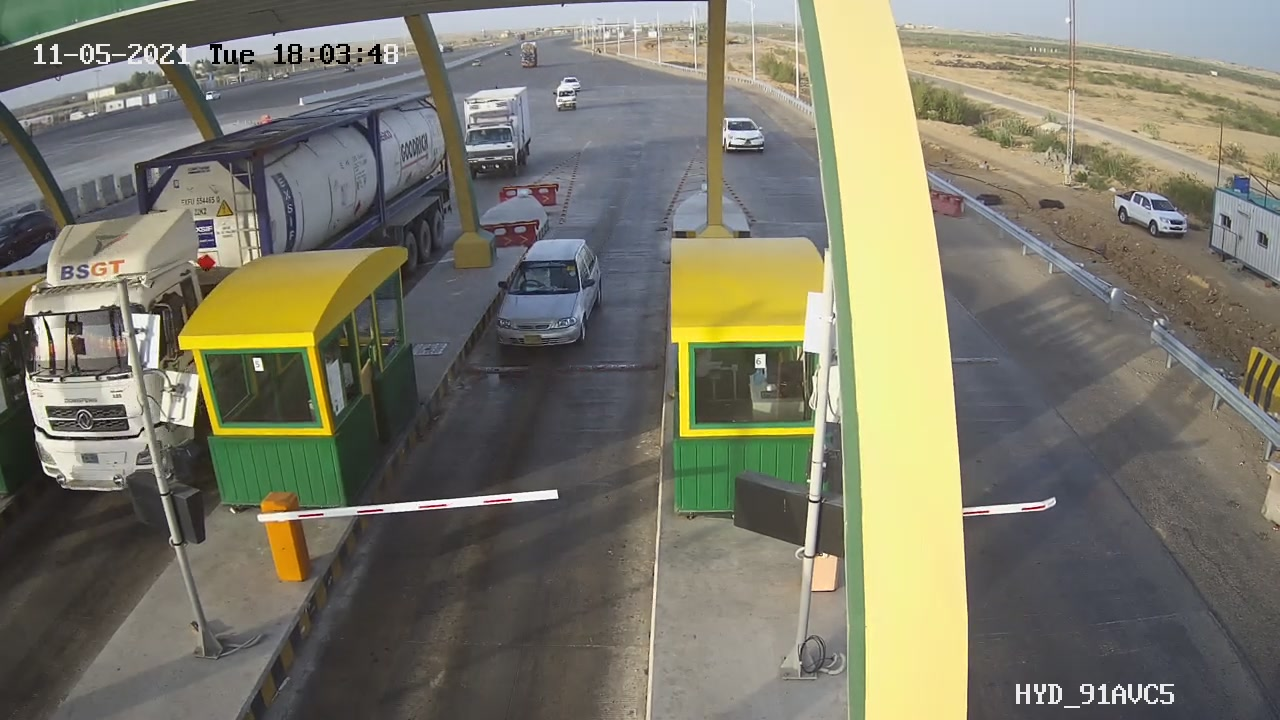F1: (461, 218, 630, 370)
